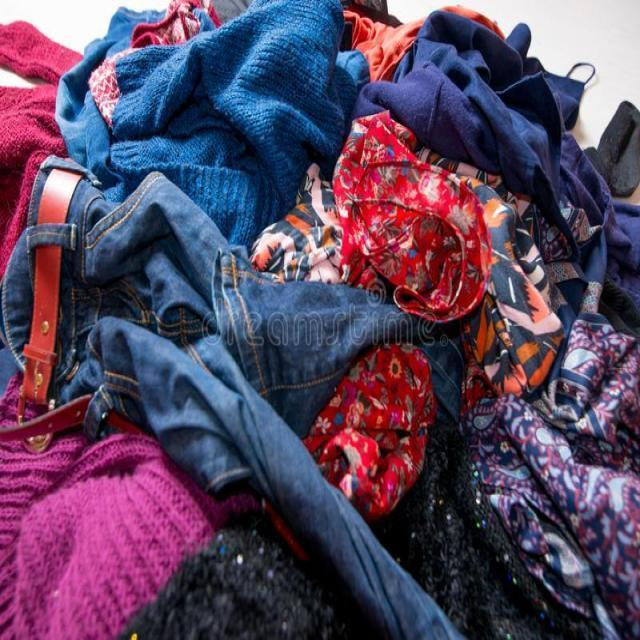clothes: (60, 70, 623, 636)
